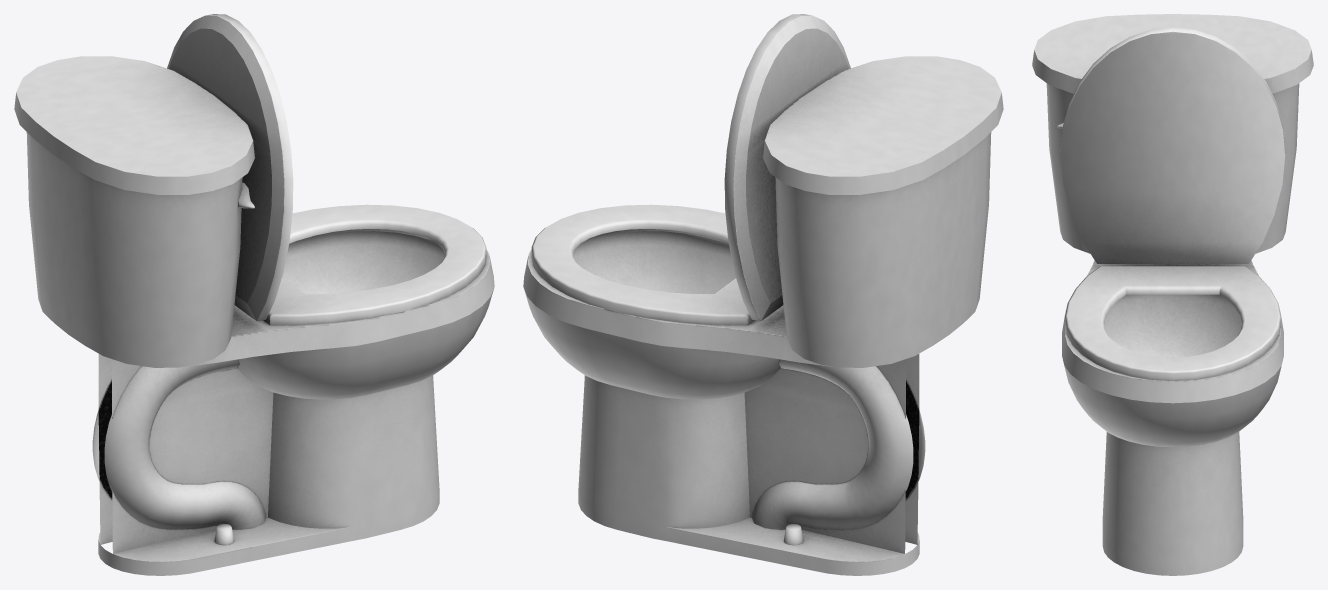
Rendered from toilet.obj.
3 views of the same model, side by side, from view 1: azimuth 30°, elevation 25°; view 2: azimuth 150°, elevation 25°; view 3: azimuth 270°, elevation 25° (orthographic). The views are drawn at different scales.
Visible parts, largest first — view 1: toilet; view 2: toilet; view 3: toilet.
Boxes of the visible parts, x1,y1,x2,y2 form: toilet: (14,14,494,575); toilet: (523,14,1003,575); toilet: (1032,14,1313,575).
Size of the model in its own units: 32.9 by 37.73 by 20.91.
1 material, 1 textured.
